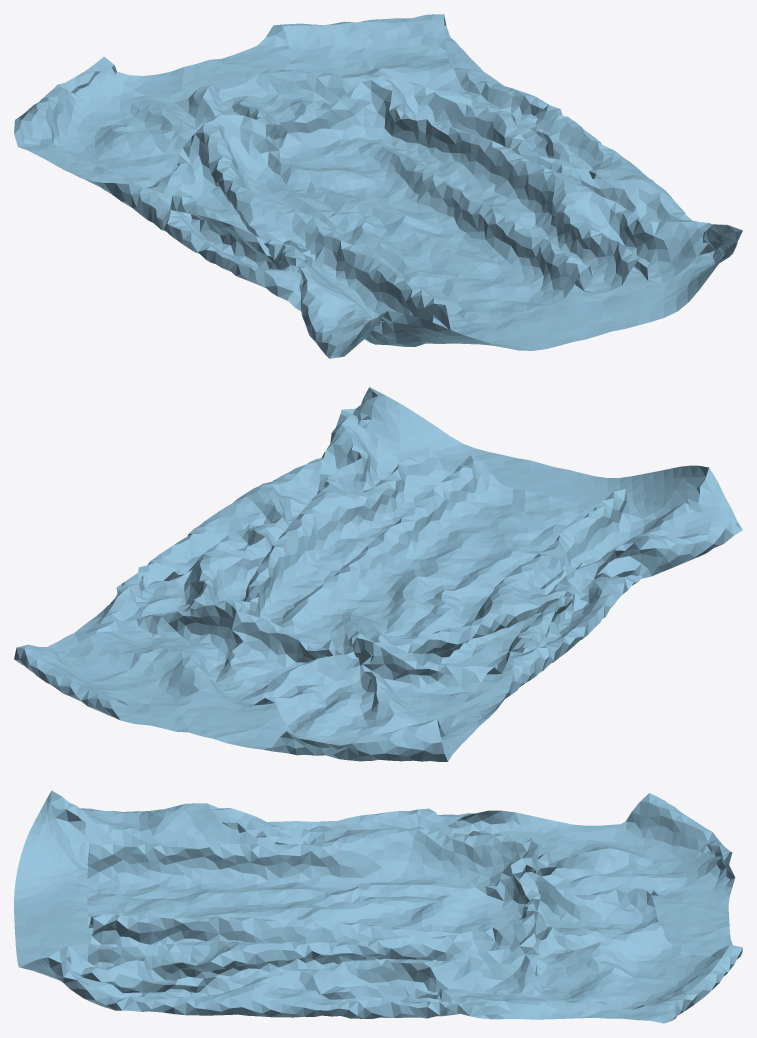
Rendered from frame_02.glb.
3 views of the same model, one above another, from view 1: azimuth 30°, elevation 25°; view 2: azimuth 150°, elevation 25°; view 3: azimuth 270°, elevation 25° (orthographic). The views are drawn at different scales.
Parts seen in each view (by area): view 1: frame_02.obj; view 2: frame_02.obj; view 3: frame_02.obj.
Part boxes in pixels (x1,y1,x2,y2): frame_02.obj: (14,14,742,358); frame_02.obj: (14,387,742,761); frame_02.obj: (14,790,742,1023).
Size of the model in its own units: 1.22 by 0.166 by 1.85.
